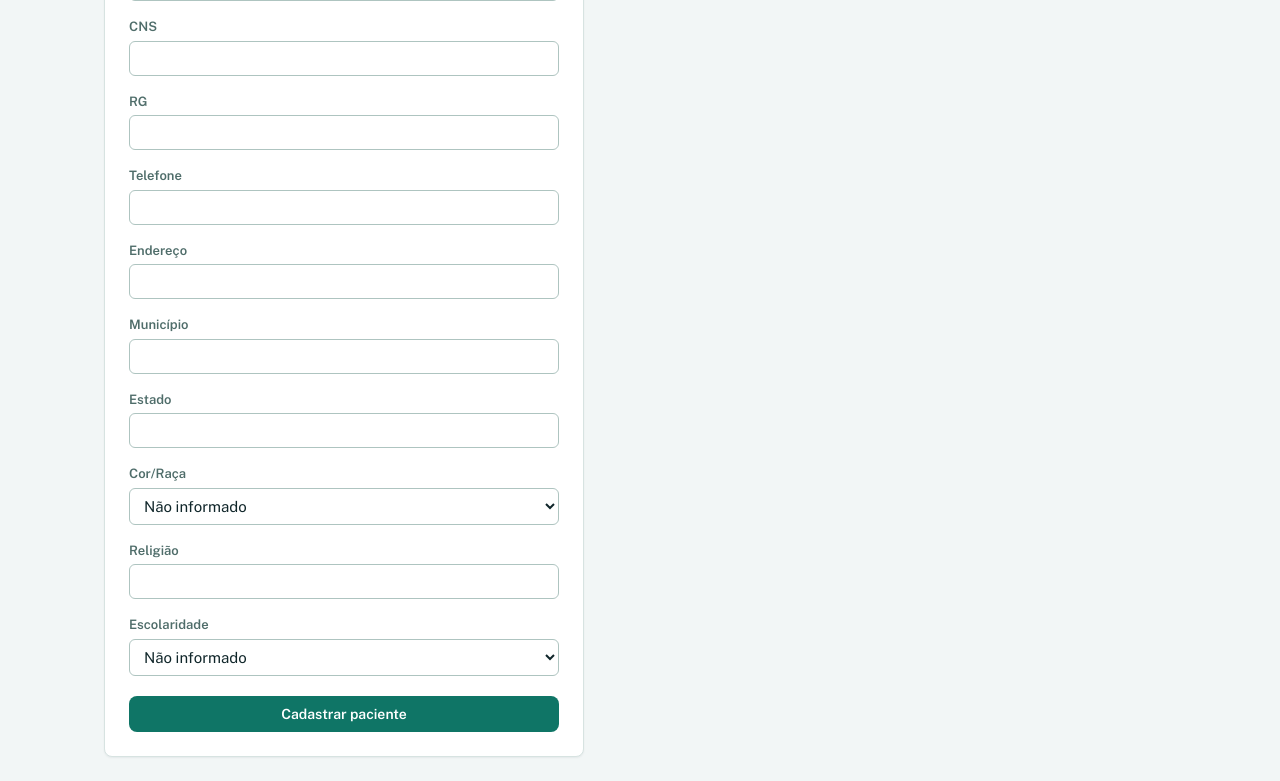
Test case: PatientRegisterPage › 3. impede envio de formulário vazio (nome obrigatório)
(page scrolled)
Click the button "Cadastrar paciente" at {"x": 344, "y": 714}, box [129,696,559,732]
(page scrolled)
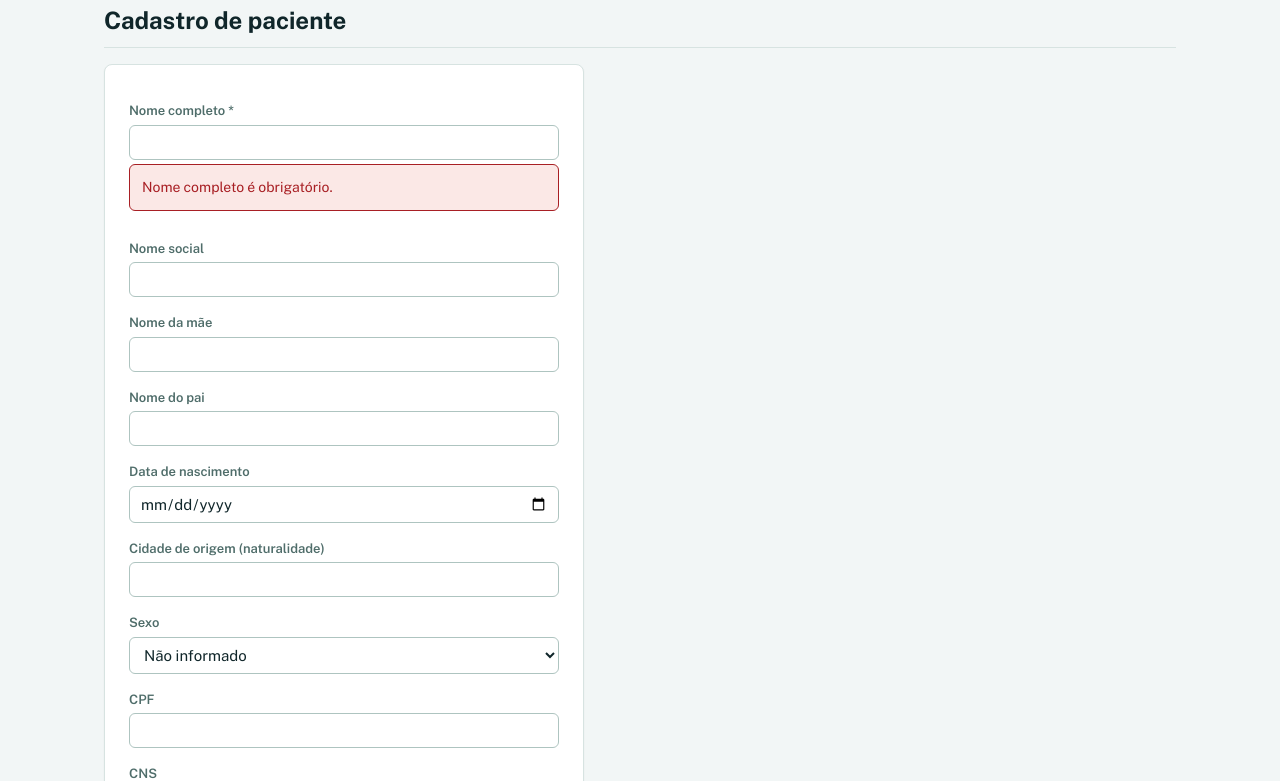
Expected: the text "Nome completo é obrigatório." is shown, [129,164,559,210]
